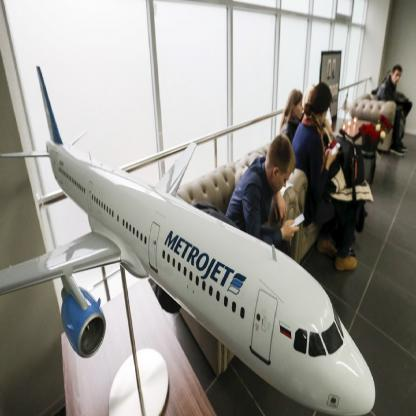CIV_Plane: (0, 61, 380, 414)
